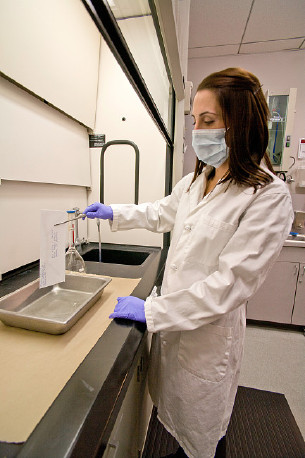face_mask: (191, 89, 229, 167)
